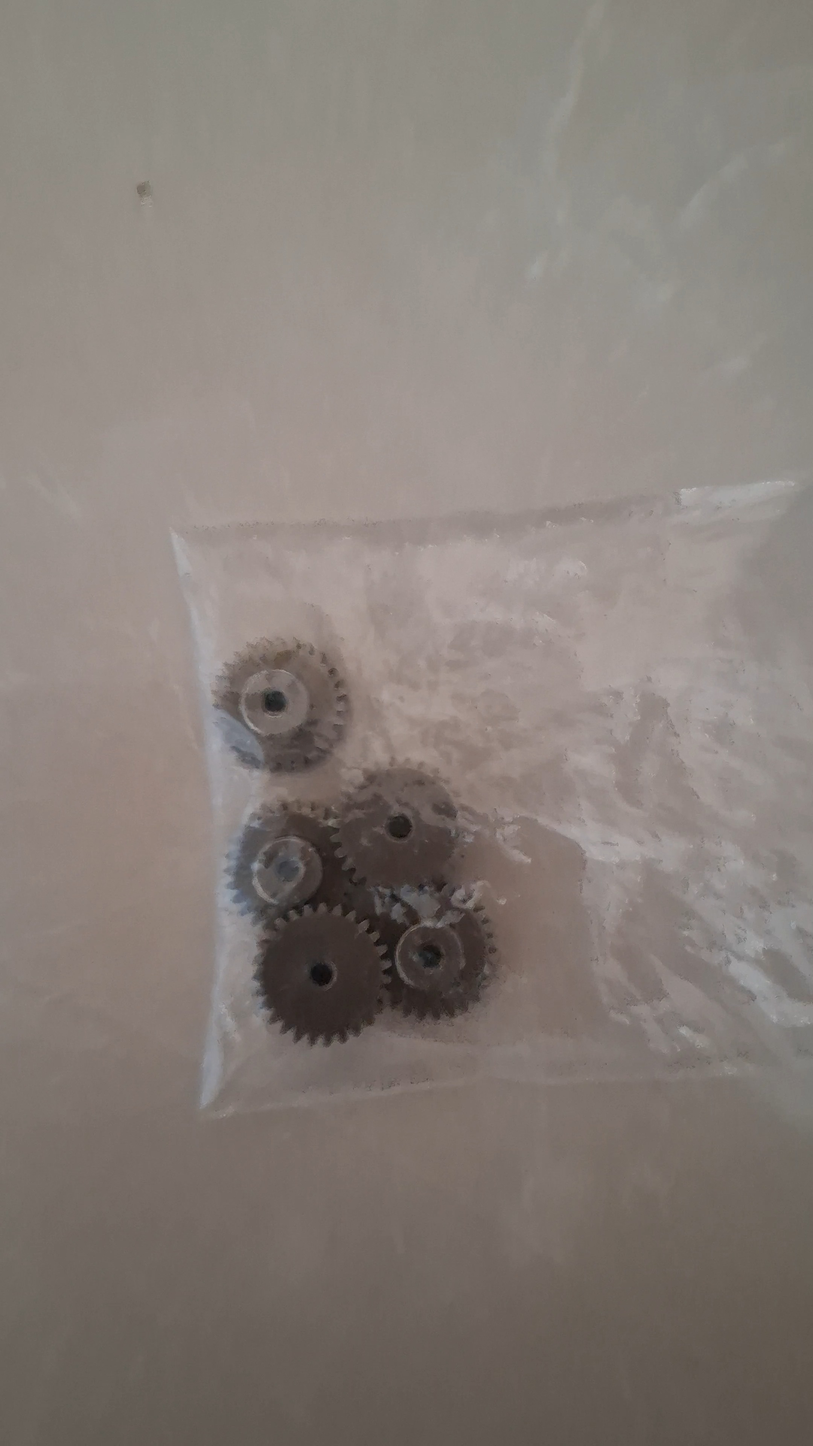spur gear: (256, 904, 386, 1044), (214, 641, 347, 773), (335, 767, 460, 889), (388, 886, 496, 1019), (227, 804, 346, 920)
